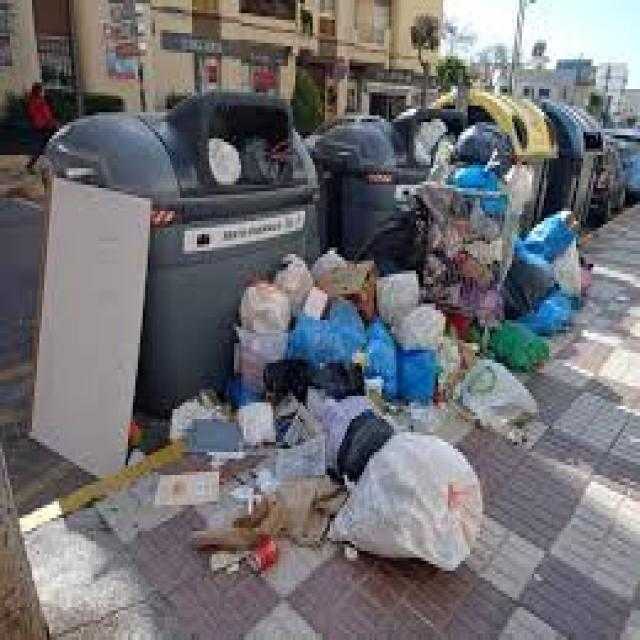garbage: (224, 250, 449, 424), (152, 392, 344, 580), (346, 420, 495, 580), (411, 114, 516, 318), (516, 202, 599, 344), (200, 108, 303, 192), (457, 352, 542, 448)
